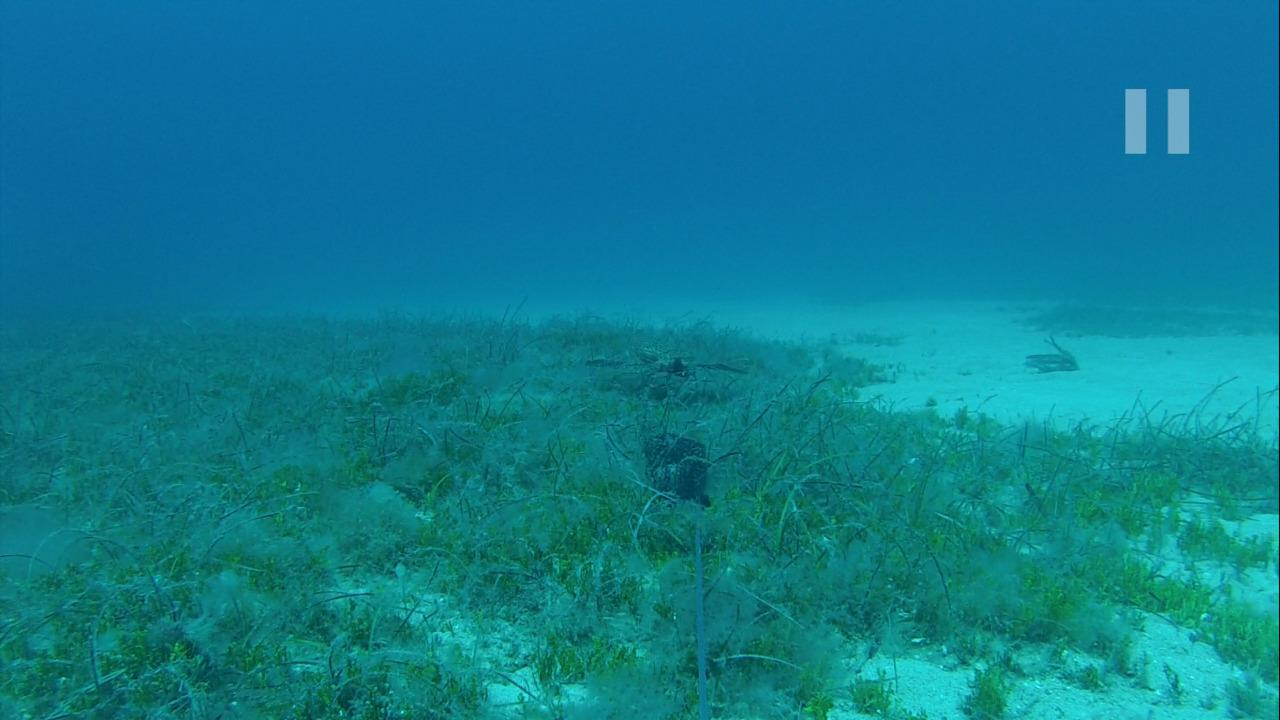dactylopterus: (564, 338, 747, 390)
